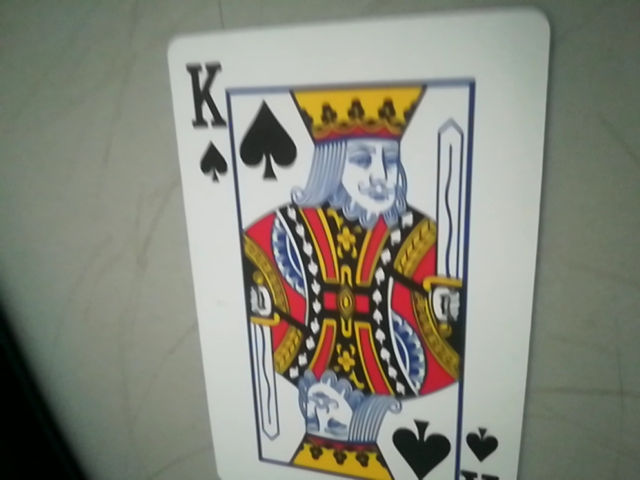ht k: (177, 46, 246, 192)
